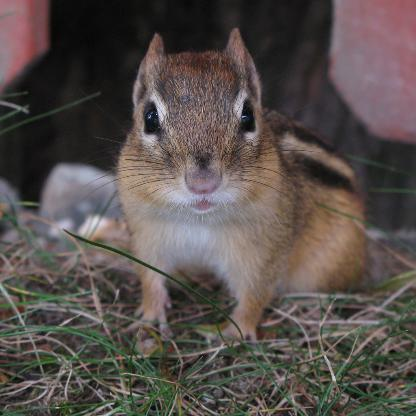Squirrel: (71, 26, 378, 354)
